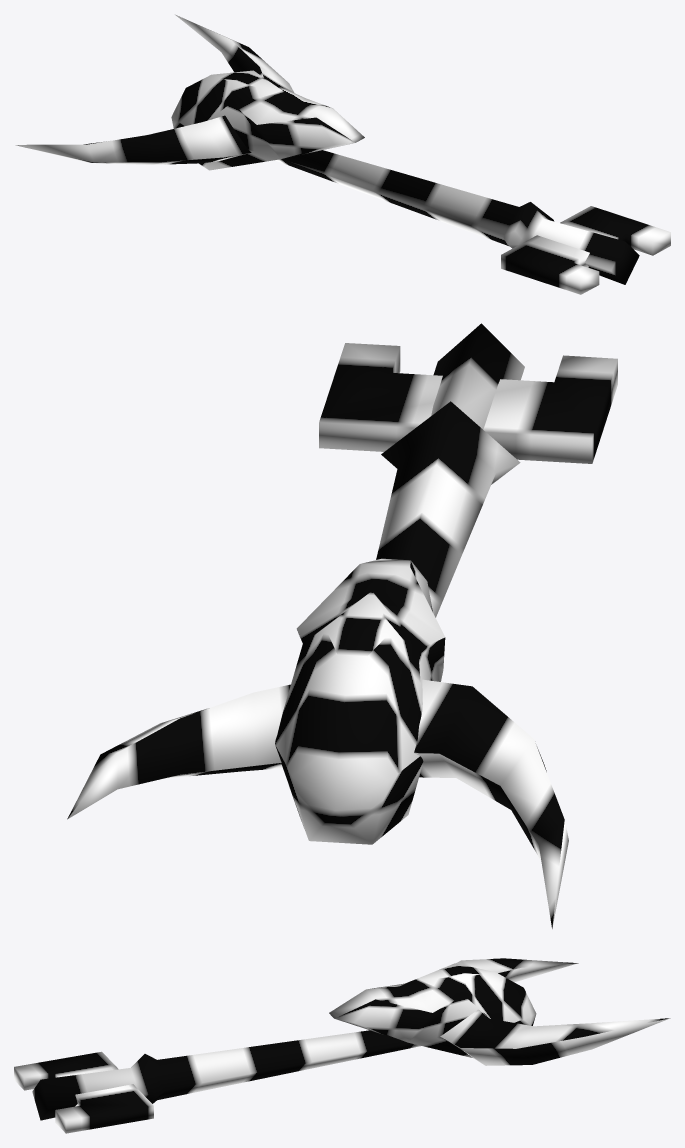
Rendered from initqu45.dae.
3 renders of one model, top to bottom at view 1: azimuth 30°, elevation 25°; view 2: azimuth 150°, elevation 25°; view 3: azimuth 270°, elevation 25°, orthographic. The views are drawn at different scales.
Visible parts, largest first — view 1: item; view 2: item; view 3: item.
Part boxes in pixels (x1,y1,x2,y2): item: (15, 14, 670, 294); item: (67, 323, 617, 928); item: (14, 958, 670, 1133).
Size of the model in its own units: 1.1 by 1.73 by 0.2698.
1 material, 1 textured.
